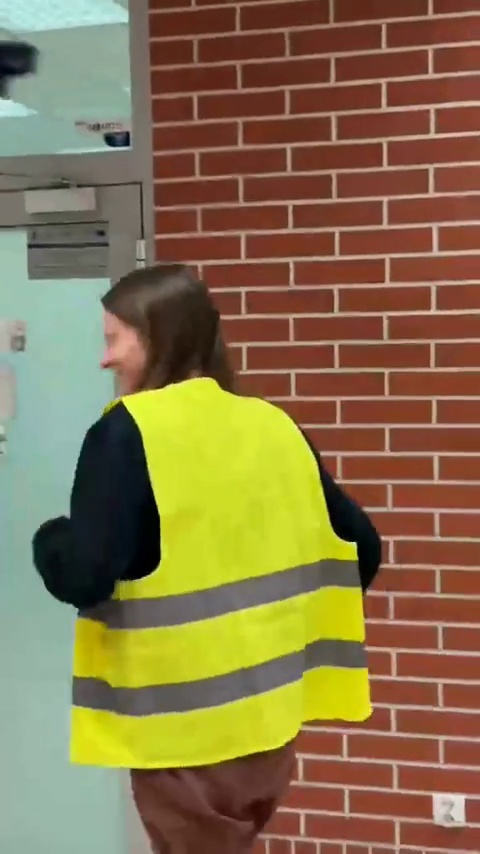vest: (50, 267, 378, 844)
